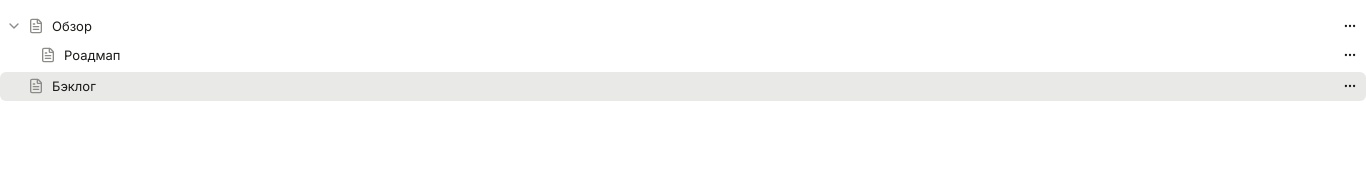
Test: PageTree actions › показывает общее меню без отдельной кнопки удаления в каждой строке
This screenshot has width=1366, height=172.
What coordinates should you click on to do the following:
click the button named "Действия для «Обзор»"
I would click on:
 (1350, 26)
Its box is [1338,14,1362,38].
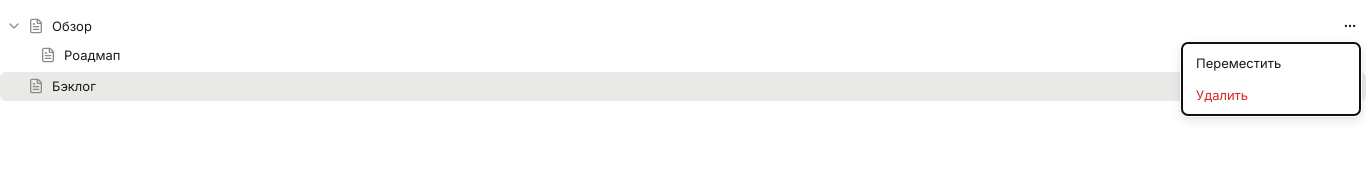
Expected: the menu items read "Переместить", "Удалить", in this order, [1196,54,1281,70]; [1196,86,1248,102]
